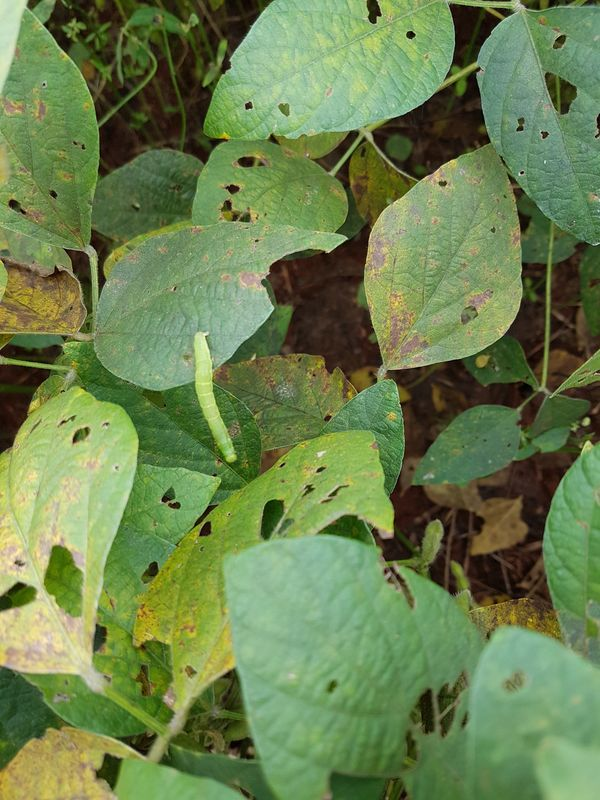Anticarsia_gemmatalis: (165, 322, 271, 480)
